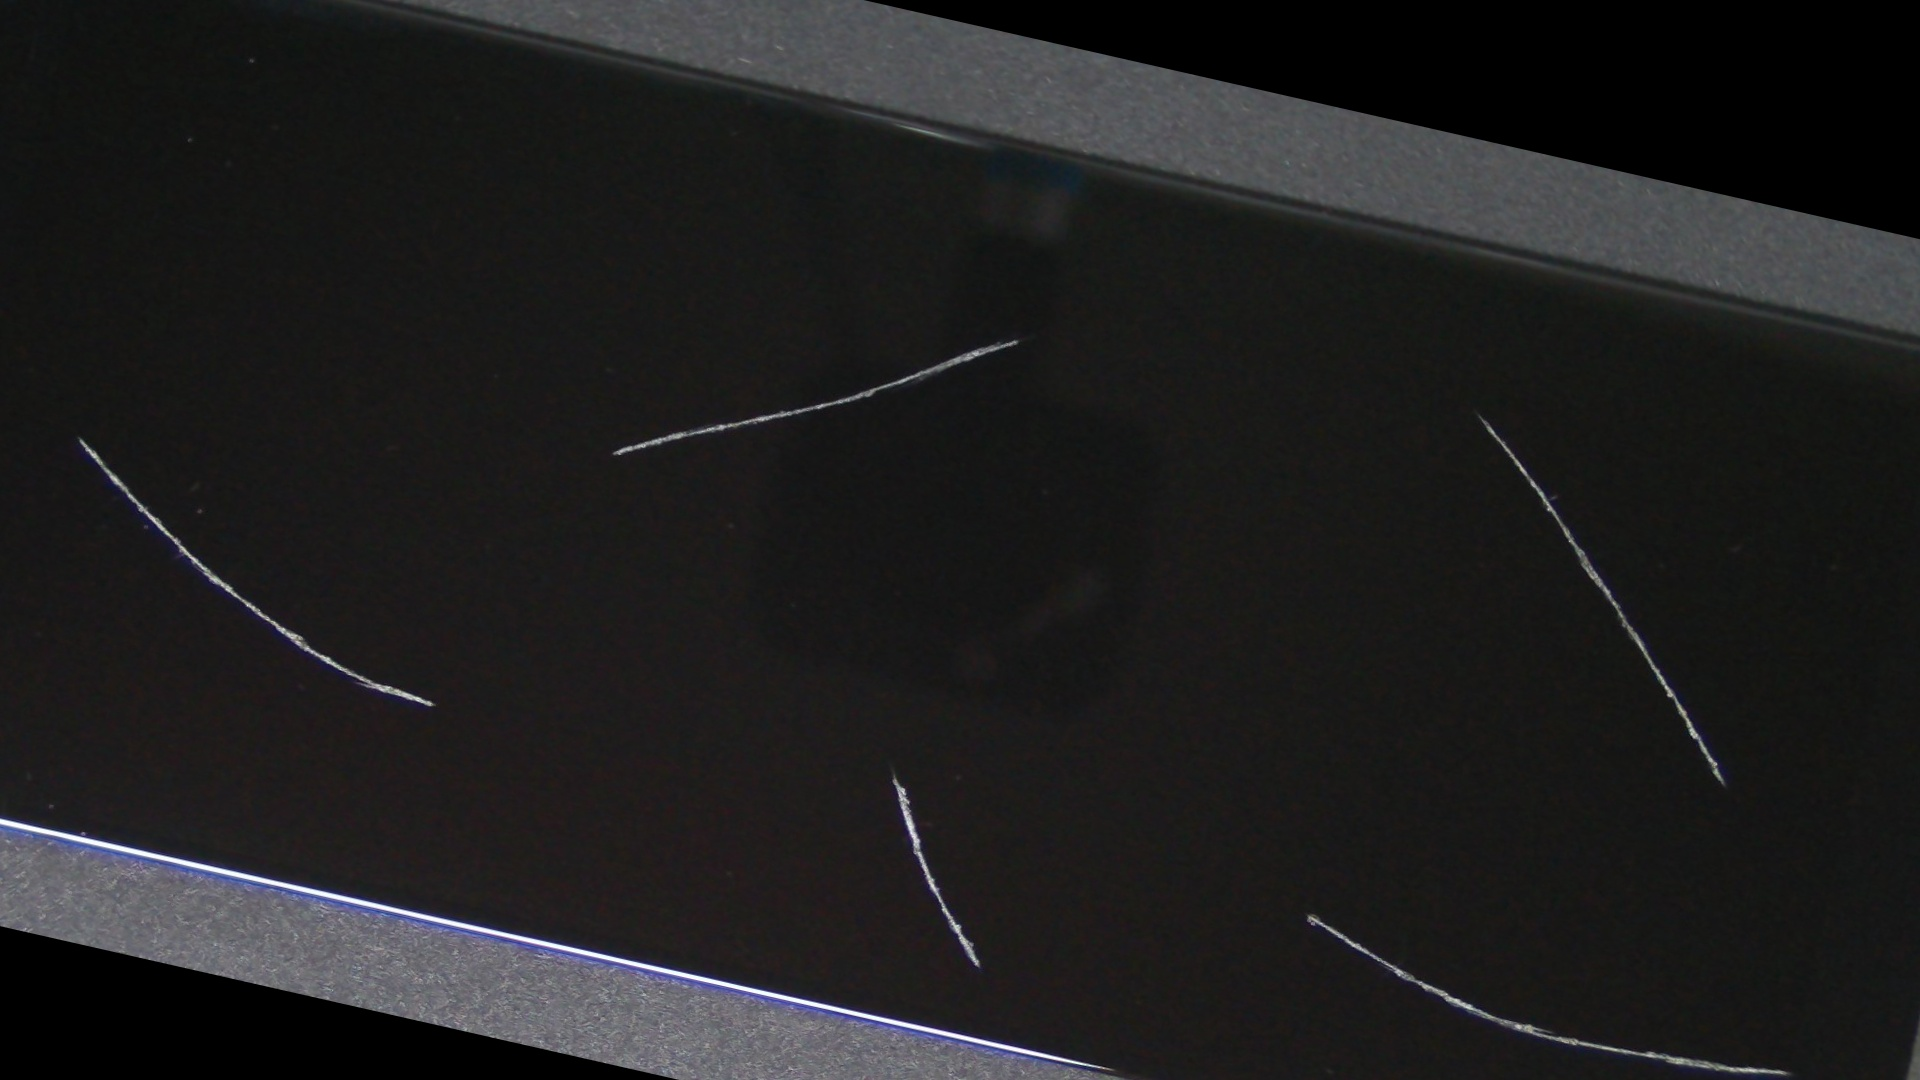oil: (477, 352, 1920, 1080), (260, 281, 1528, 1080), (650, 100, 1920, 674), (417, 66, 1617, 615), (0, 112, 277, 764)
